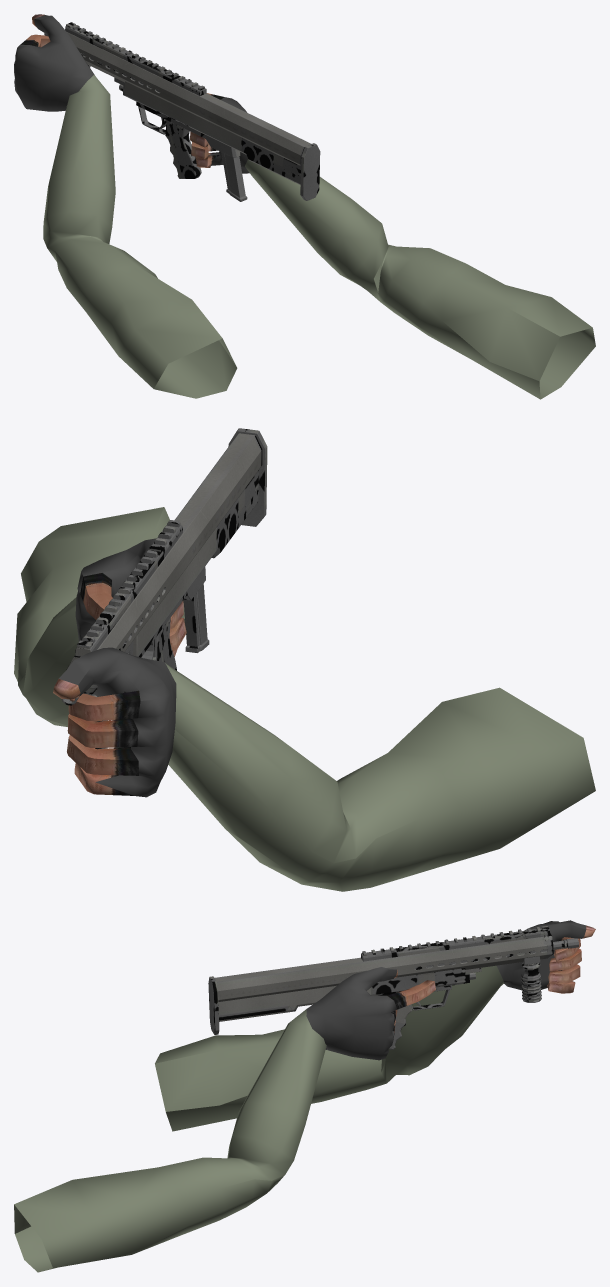
The model's file is gun_p90.glb.
3 renders of one model, top to bottom at view 1: azimuth 30°, elevation 25°; view 2: azimuth 150°, elevation 25°; view 3: azimuth 270°, elevation 25°, orthographic. The views are drawn at different scales.
Visible parts, largest first — view 1: body_sleeve, body_QUATP, body_glove, body_ARMS; view 2: body_sleeve, body_QUATP, body_glove, body_ARMS; view 3: body_sleeve, body_QUATP, body_glove, body_ARMS.
Part boxes in pixels (left/top/right/bottom): body_sleeve: left=43, top=75, right=595, bottom=399; body_QUATP: left=44, top=22, right=320, bottom=201; body_glove: left=14, top=15, right=249, bottom=173; body_ARMS: left=20, top=14, right=223, bottom=167; body_sleeve: left=14, top=507, right=595, bottom=891; body_QUATP: left=61, top=428, right=267, bottom=749; body_glove: left=59, top=538, right=176, bottom=797; body_ARMS: left=53, top=573, right=186, bottom=795; body_sleeve: left=14, top=965, right=503, bottom=1272; body_QUATP: left=208, top=926, right=578, bottom=1049; body_glove: left=306, top=920, right=586, bottom=1060; body_ARMS: left=387, top=925, right=595, bottom=1037.
Bounding box in the file's own units: 63.37 × 36.65 × 83.12.
Materials: 4 (2 with a texture image).
